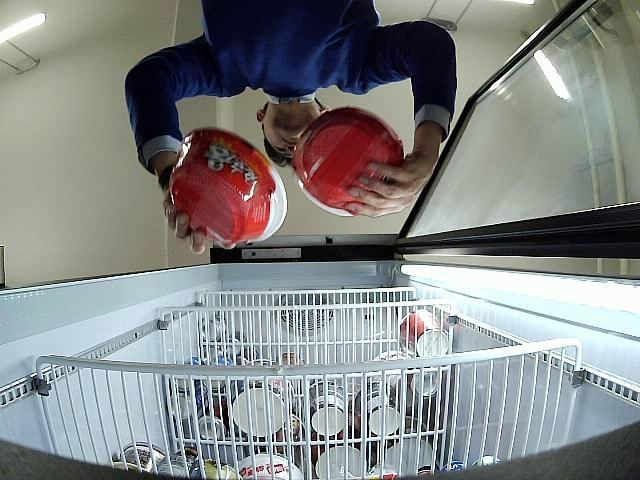10_wangTtukkeong: (170, 128, 288, 244), (292, 107, 403, 216)
